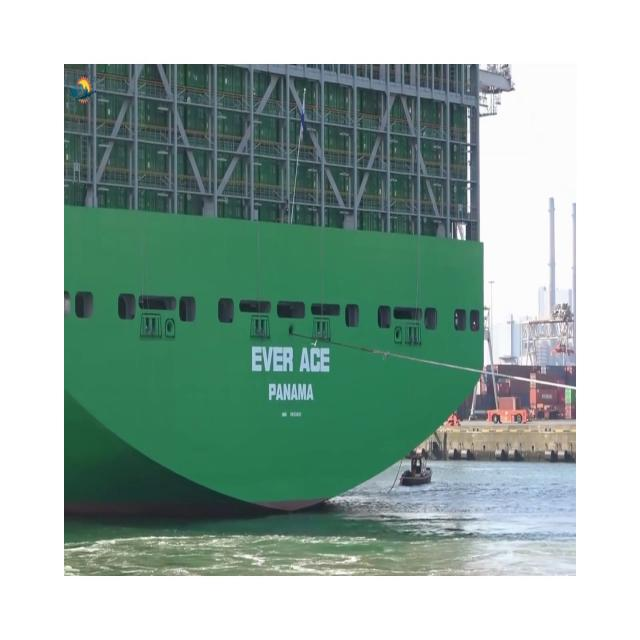OCR: (245, 326, 335, 418)
